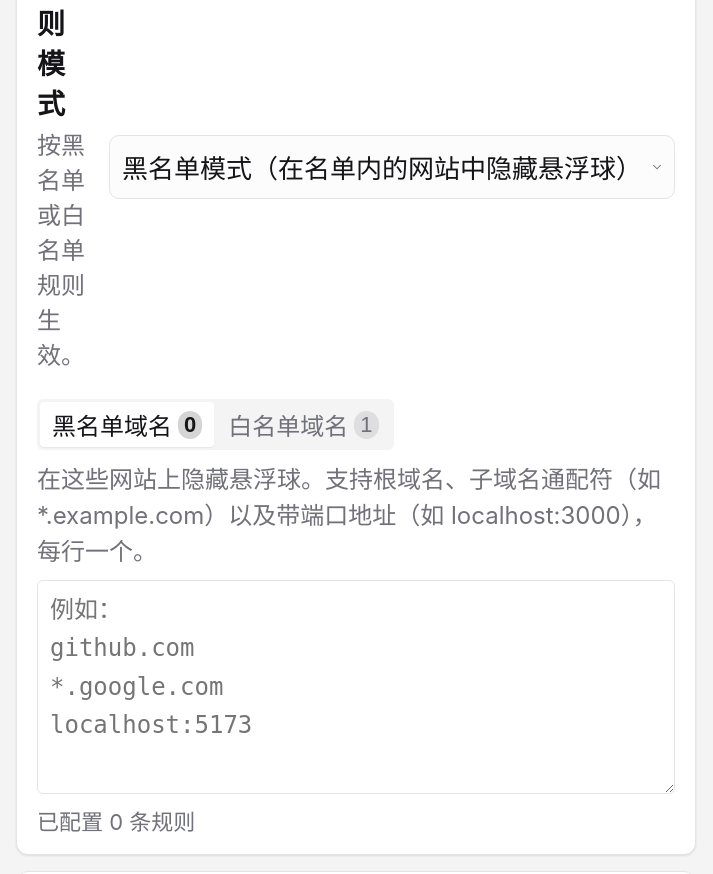
Test: OptionsPage 首屏读取与归一化 › 残缺 / 非法数据回退默认，不崩也不写回
(page scrolled)
Expected: the text box with placeholder "例如： github.com *.google.com localhost:5173" is empty, [37, 580, 675, 794]
Click the tab "白名单域名 1".
click(303, 424)  # box [216, 402, 391, 447]
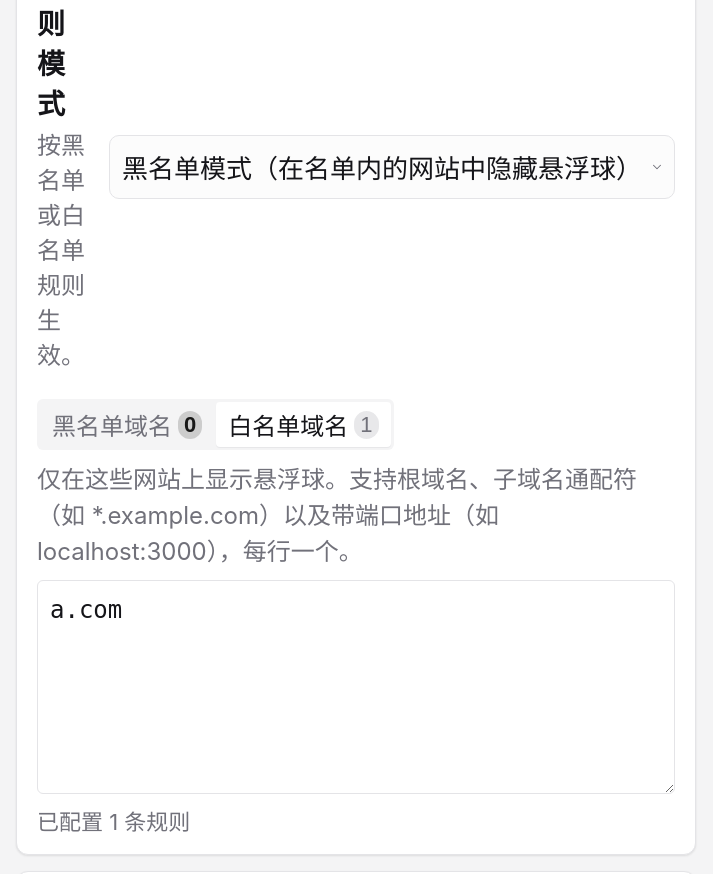
Expected: the text box holds "a.com", [37, 580, 675, 794]
